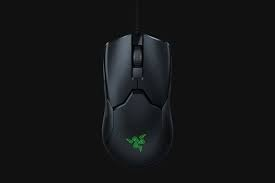mouse: (100, 34, 177, 169)
